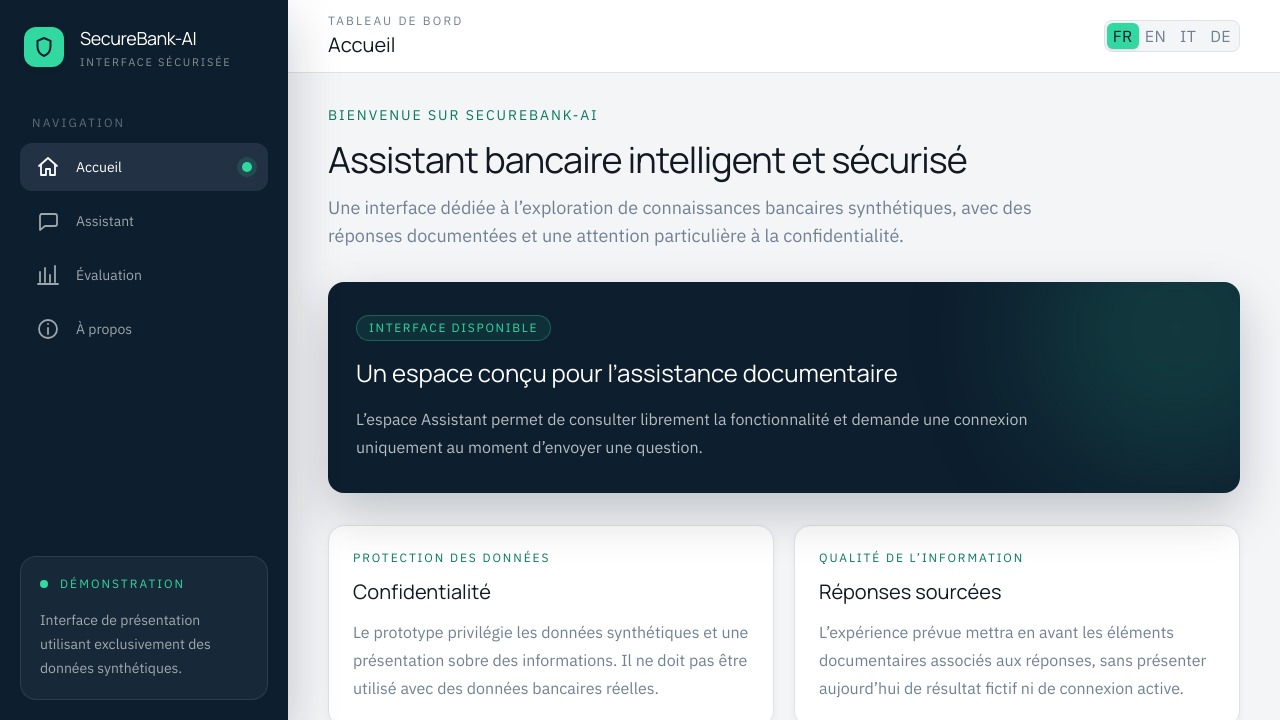
it: internationalization › selects English without reloading or changing the URL
The width and height of the screenshot is (1280, 720).
Click the button with aria-label "English" at (1155, 36), box [1139,23,1172,49]
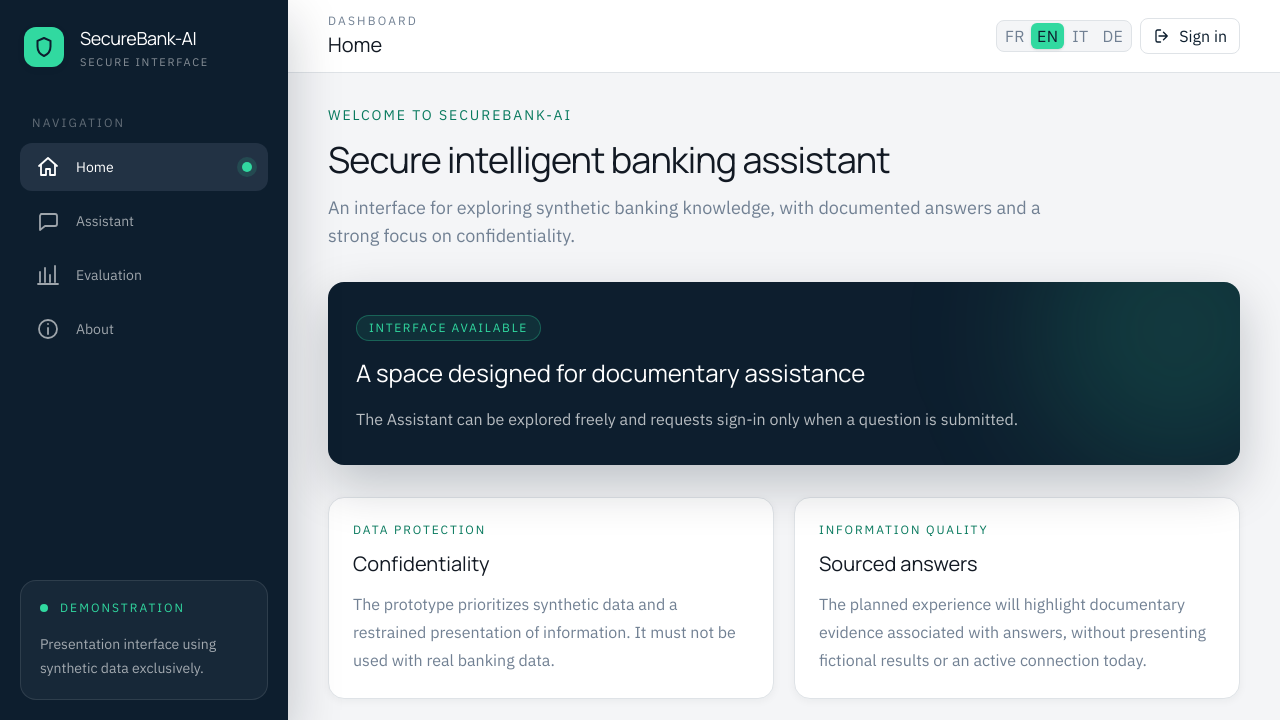
Expected: the heading "Secure intelligent banking assistant" is shown, [328,135,890,184]
